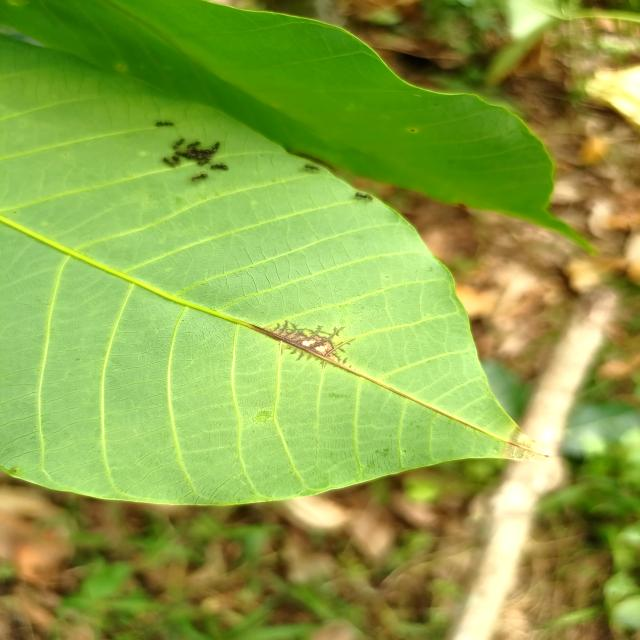Corynespora: (251, 320, 355, 370)
